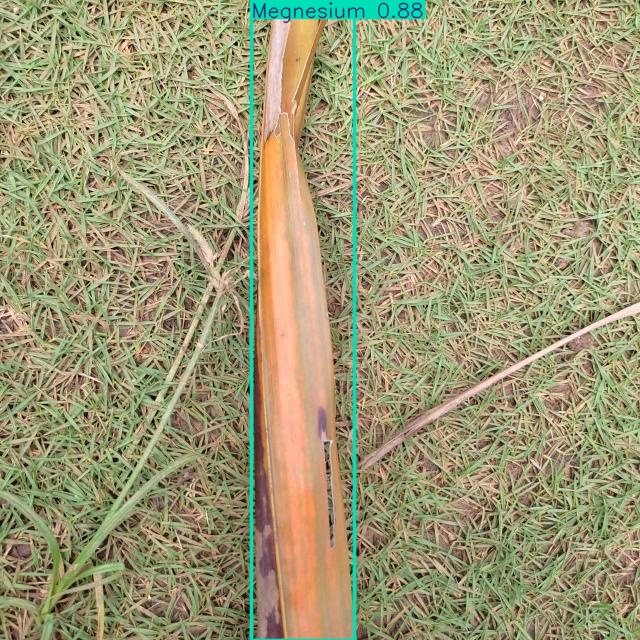Megnesium: (251, 0, 355, 640)
